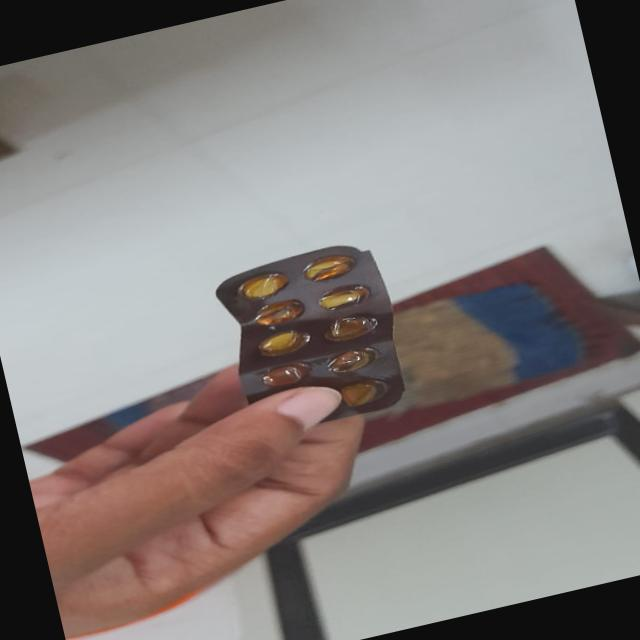Blister_Packs - Non Recyclable: (205, 234, 418, 443)
